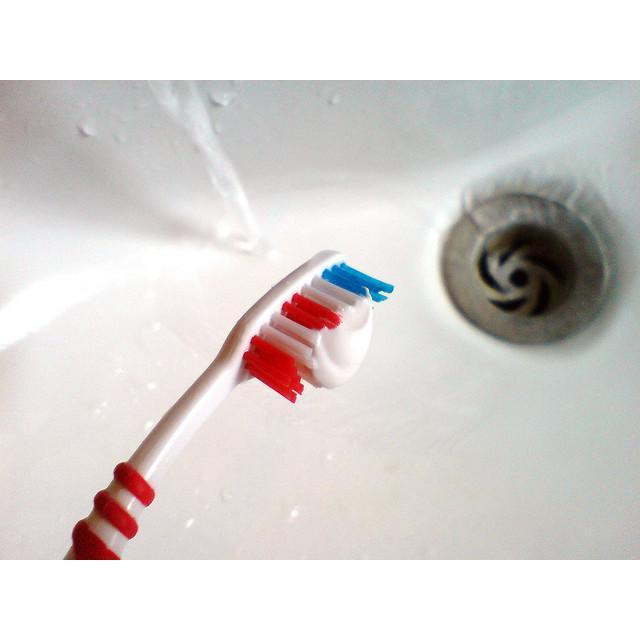toothbrush: (1, 85, 636, 552), (65, 248, 395, 560)
